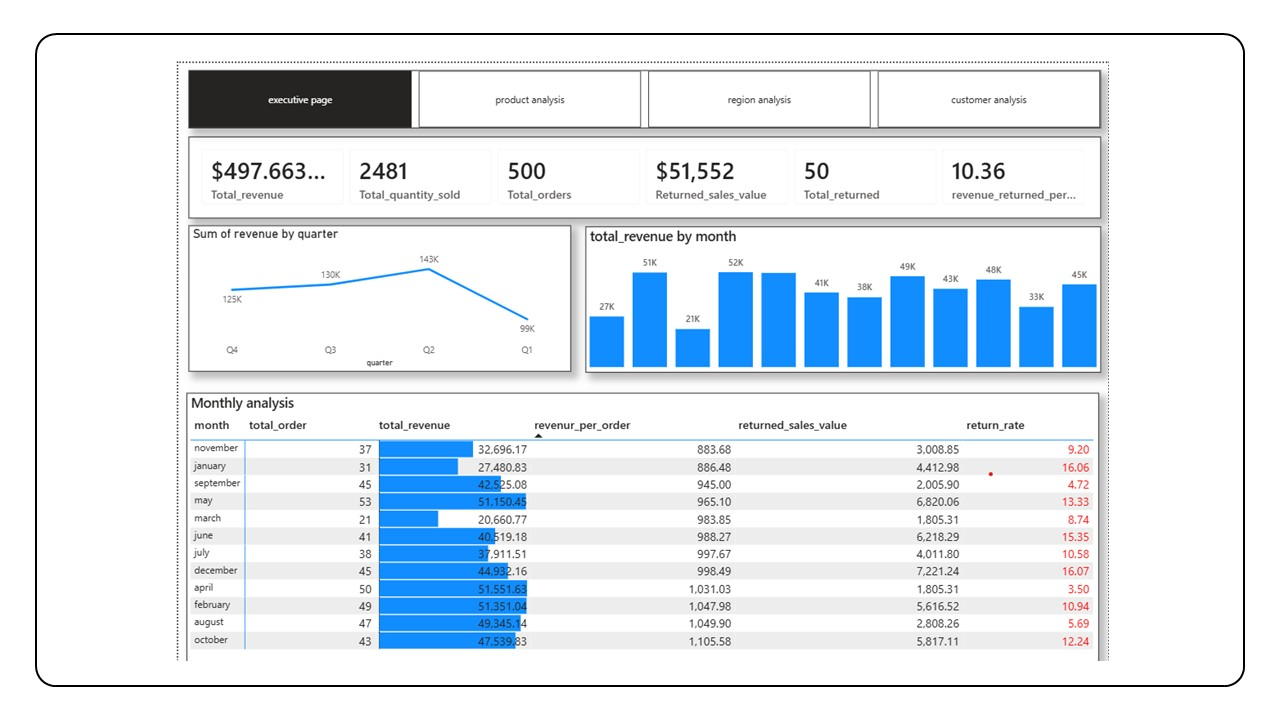

The page's visual inventory and layout, read from the dashboard file:
{"tool":"powerbi","page":{"name":"executive page","canvas":[1280,850],"ordinal":0},"visuals":[{"type":"cardVisual","fields":{"Data":["Sum(public total_revenue.total_revenue)","Sum(public total_quantity_sold.total_quantity_sold)","Sum(public overall_return_rate.total_orders)","Sum(public returned_sales_value_percentage.returned_sales_value)","Sum(public overall_return_rate.total_returned)","Sum(public returned_sales_value_percentage.round)"]},"box":[14.1,101.4,1256.3,112.7],"z":0},{"type":"lineChart","fields":{"Category":["public sales_analysis_quaterly.quarter"],"Y":["Sum(public sales_analysis_quaterly.revenue)"]},"box":[14.1,223.9,526.8,201.4],"z":1000},{"type":"clusteredColumnChart","title":"total_revenue by month","fields":{"Category":["public monthly_sales.extract"],"Y":["Sum(public monthly_sales.total_revenue)"]},"box":[560.6,225.4,709.9,201.4],"z":2000},{"type":"pivotTable","title":"Monthly analysis","fields":{"Rows":["public monthly_sales.month"],"Values":["Sum(public monthly_sales.total_order)","Sum(public monthly_sales.total_revenue)","Sum(public monthly_sales.revenur_per_order)","Sum(public monthly_sales.returned_sales_value)","Sum(public monthly_sales.return_rate)"]},"box":[11.3,454.9,1256.3,381.7],"z":3000},{"type":"pageNavigator","box":[14.1,9.9,1256.3,80.3],"z":3001}]}

Visuals, with their boxes on the page's 1280x850 design canvas (x1, y1, x2, y2). These are canvas units, not pixel positions in the 1280x720 screenshot, which may show the page scaled, cropped or inside an application window:
cardVisual - Sum(public total_revenue.total_revenue) x Sum(public total_quantity_sold.total_quantity_sold): x1=14, y1=101, x2=1270, y2=214
lineChart - public sales_analysis_quaterly.quarter x Sum(public sales_analysis_quaterly.revenue): x1=14, y1=224, x2=541, y2=425
"total_revenue by month" clusteredColumnChart: x1=561, y1=225, x2=1270, y2=427
"Monthly analysis" pivotTable: x1=11, y1=455, x2=1268, y2=837
pageNavigator: x1=14, y1=10, x2=1270, y2=90
